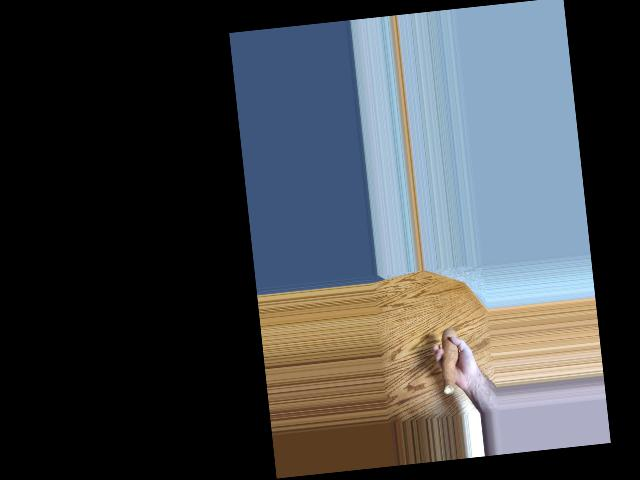sweet_potato: (436, 331, 463, 389)
